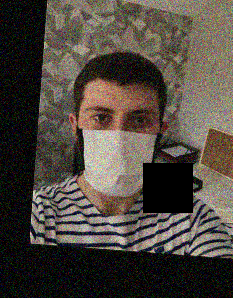with_mask: (72, 97, 158, 196)
